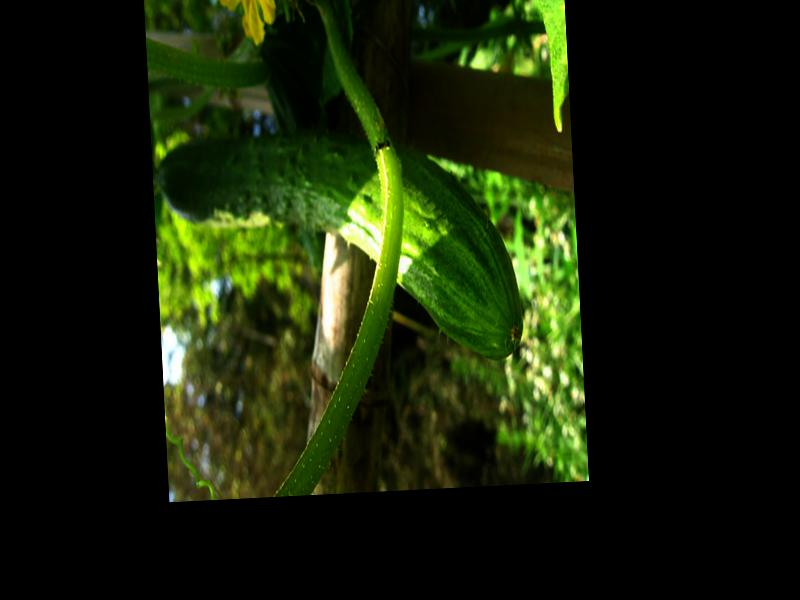Cucumber: (153, 121, 524, 373)
